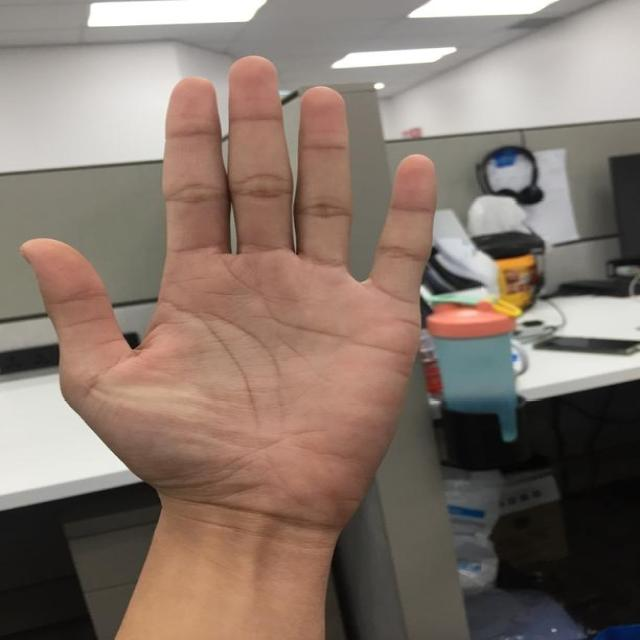hand: (18, 52, 436, 532)
